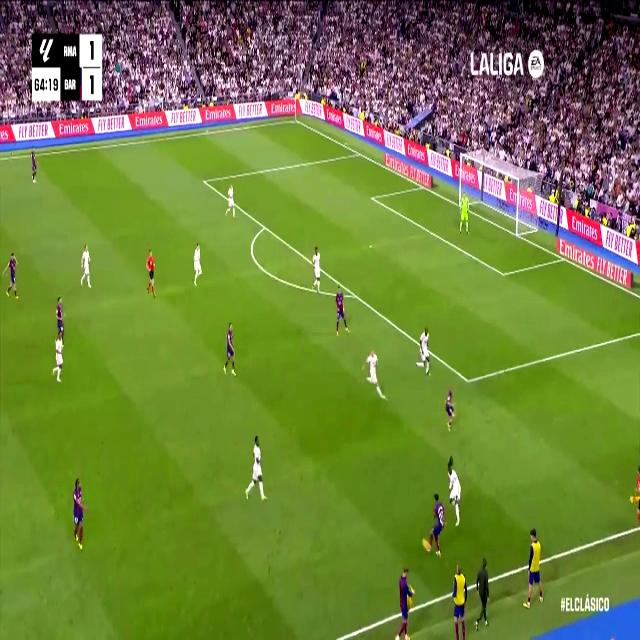bigarea_bottom_inner: (463, 368, 473, 393)
bigarea_top_inner: (202, 175, 206, 187)
bottom_arc_area_intersection: (350, 286, 360, 303)
corner: (292, 114, 300, 124)
smallarea_bottom_inner: (500, 265, 508, 283)
smallarea_top_inner: (370, 193, 375, 203)
top_arc_area_intersection: (261, 219, 268, 233)
